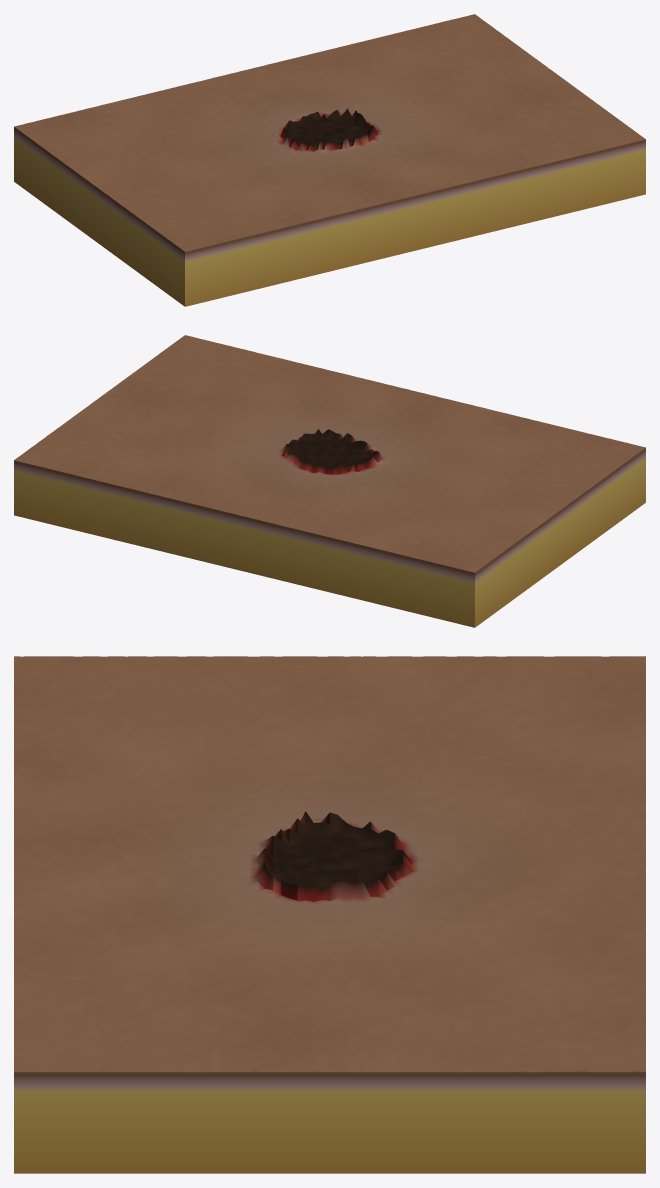
Rendered from care_talon.glb.
3 renders of one model, top to bottom at view 1: azimuth 30°, elevation 25°; view 2: azimuth 150°, elevation 25°; view 3: azimuth 270°, elevation 25°, orthographic. The views are drawn at different scales.
Parts seen in each view (by area): view 1: care_talon; view 2: care_talon; view 3: care_talon.
Part boxes in pixels (left/top/right/bottom): care_talon: left=14, top=14, right=645, bottom=306; care_talon: left=14, top=335, right=645, bottom=627; care_talon: left=14, top=656, right=645, bottom=1173.
Size of the model in its own units: 14 by 1.84 by 9.
